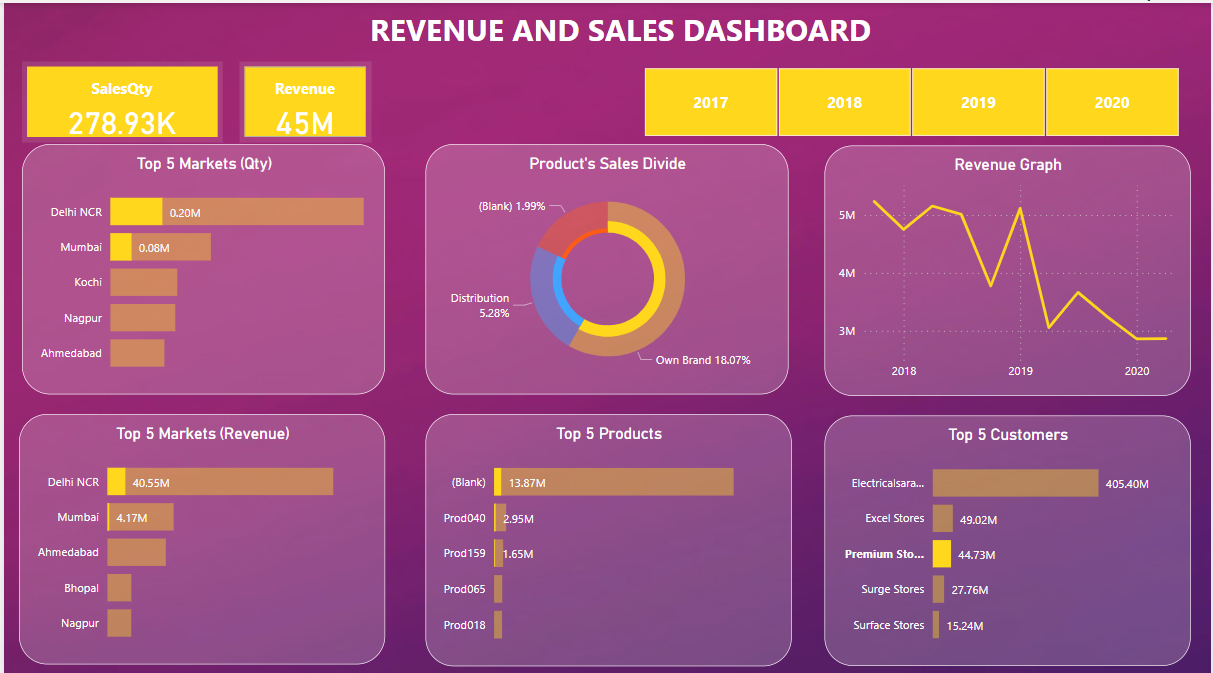

The dashboard page shown, as its layout file describes it:
{"tool":"powerbi","page":{"name":"Page 1","canvas":[1280,720],"ordinal":0},"visuals":[{"type":"barChart","title":"Top 5 Markets (Revenue)","fields":{"Category":["markets.market_name"],"Y":["transactions.Revenue"]},"box":[15.9,435.5,387.8,265.4],"z":0},{"type":"cardVisual","fields":{"Data":["transactions.SalesQty"]},"box":[19.1,62,213,85.8],"z":1000},{"type":"cardVisual","fields":{"Data":["transactions.Revenue"]},"box":[249.5,62,139.9,85.8],"z":2000},{"type":"barChart","title":"Top 5 Customers","fields":{"Category":["customers.customer_name"],"Y":["transactions.Revenue"]},"box":[869.4,437.1,387.8,265.4],"z":3000},{"type":"slicer","fields":{"Values":["date.year"]},"box":[653.2,62,615.1,85.8],"z":4000},{"type":"lineChart","title":"Revenue Graph","fields":{"Y":["transactions.Revenue"],"Category":["date.cy_date.Variation.Date Hierarchy.Year","date.cy_date.Variation.Date Hierarchy.Quarter"]},"box":[869.4,151,387.8,265.4],"z":5000},{"type":"clusteredBarChart","title":"Top 5 Products","fields":{"Category":["products.product_code"],"Y":["transactions.Revenue"]},"box":[446.6,435.5,387.8,267],"z":6000},{"type":"donutChart","title":"Product''s Sales Divide","fields":{"Category":["products.product_type"],"Y":["transactions.SalesQty"]},"box":[446.6,149.4,384.6,265.4],"z":7000},{"type":"textbox","box":[367.2,0,572.2,62],"z":8000},{"type":"barChart","title":"Top 5 Markets (Qty)","fields":{"Category":["markets.market_name"],"Y":["transactions.SalesQty"]},"box":[19.1,149.4,384.6,265.4],"z":9000}]}

Visuals, with their boxes in screenshot pixels (x1, y1, x2, y2), scaled from the page's 1280x720 canvas onto the 1213x673 screenshot:
"Top 5 Markets (Revenue)" barChart: box=[15, 407, 383, 655]
cardVisual - transactions.SalesQty: box=[18, 58, 220, 138]
cardVisual - transactions.Revenue: box=[236, 58, 369, 138]
"Top 5 Customers" barChart: box=[824, 409, 1191, 657]
slicer - date.year: box=[619, 58, 1202, 138]
"Revenue Graph" lineChart: box=[824, 141, 1191, 389]
"Top 5 Products" clusteredBarChart: box=[423, 407, 791, 657]
"Product''s Sales Divide" donutChart: box=[423, 140, 788, 388]
textbox: box=[348, 0, 890, 58]
"Top 5 Markets (Qty)" barChart: box=[18, 140, 383, 388]
